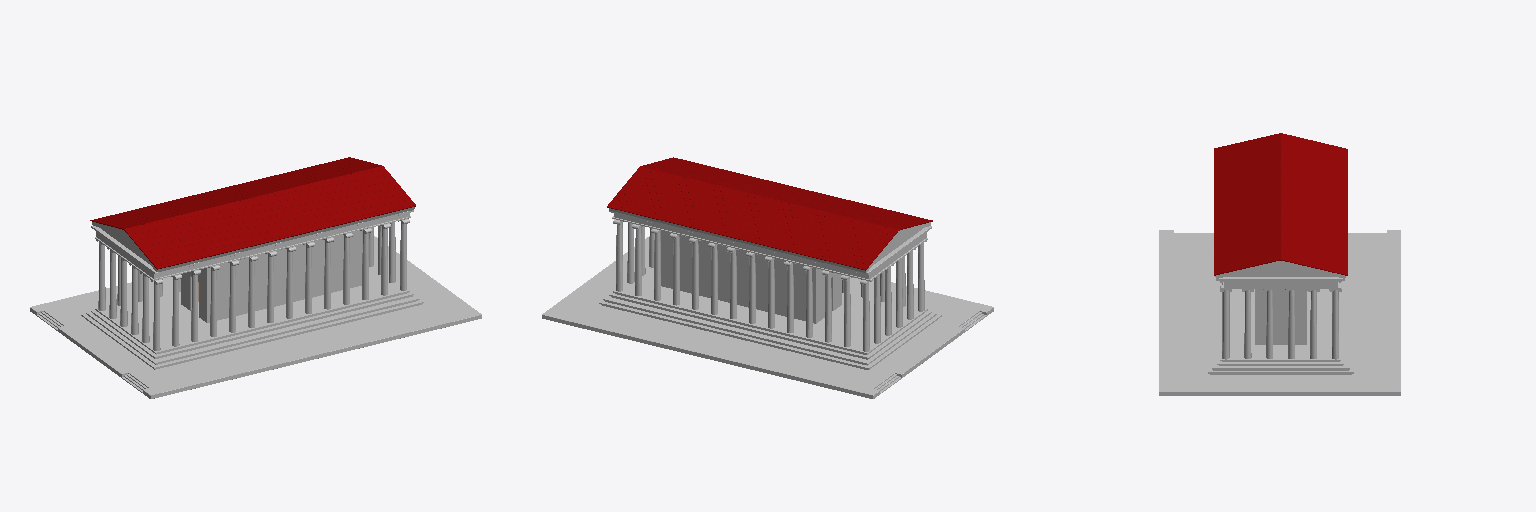
File: ionic_temple.obj
3 renders of one model, left to right at view 1: azimuth 30°, elevation 25°; view 2: azimuth 150°, elevation 25°; view 3: azimuth 270°, elevation 25°, orthographic.
Parts seen in each view (by area): view 1: surf_01; view 2: surf_01; view 3: surf_01.
Part boxes in pixels (x1,y1,x2,y2): surf_01: (30, 157, 481, 398); surf_01: (542, 157, 993, 398); surf_01: (1159, 133, 1400, 395).
Bounding box in the file's own units: 15.73 × 5.33 × 9.93.